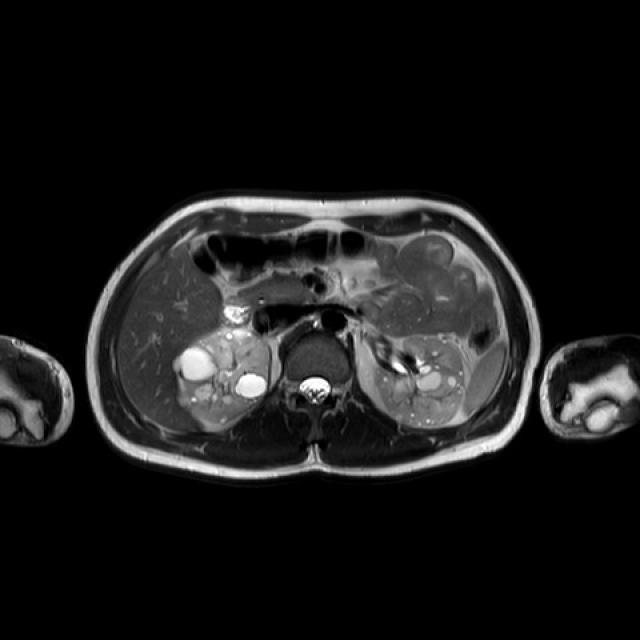Sag: (176, 329, 273, 424)
Sol: (374, 336, 466, 426)
